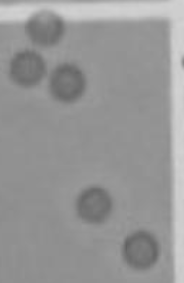cell: (42, 59, 91, 106), (20, 5, 69, 52), (116, 227, 161, 274), (70, 181, 114, 227), (4, 45, 48, 91)
